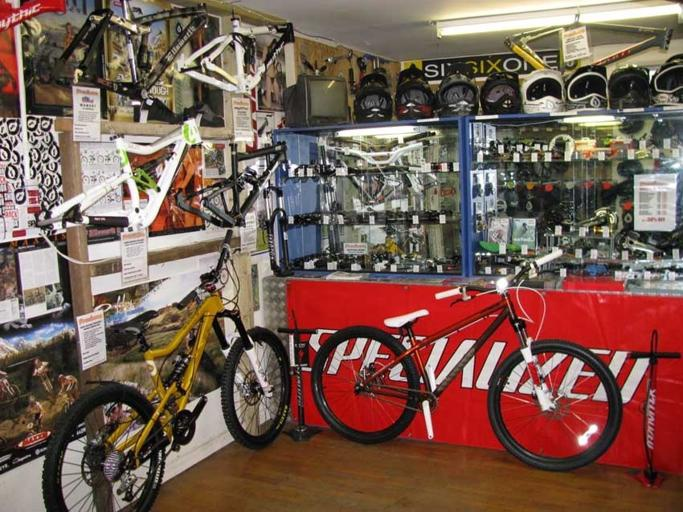non-vehicle: (40, 228, 291, 511), (310, 246, 621, 472)
